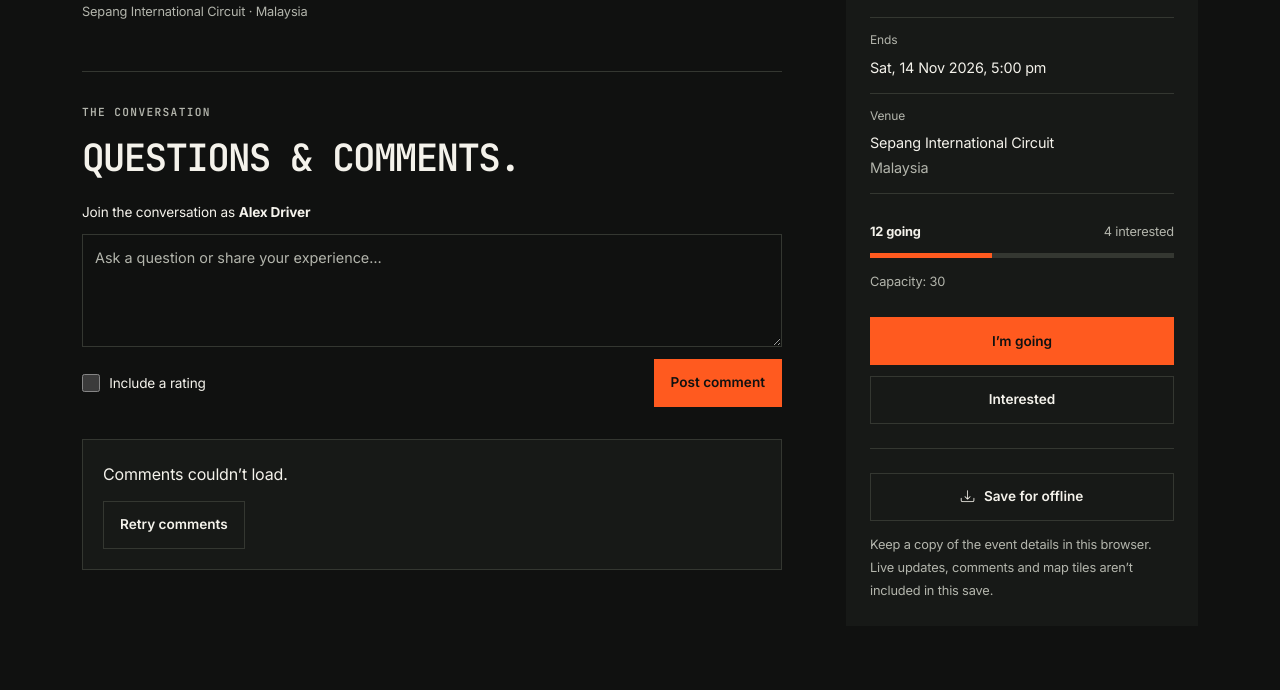
Test: EventDetailView redesign › isolates a comments failure and retries comments without hiding or refetching the event
(page scrolled)
What coordinates should you click on to do the following:
click the button "Retry comments"
I would click on:
 (174, 525)
Its box is [103,501,245,549].
(page scrolled)
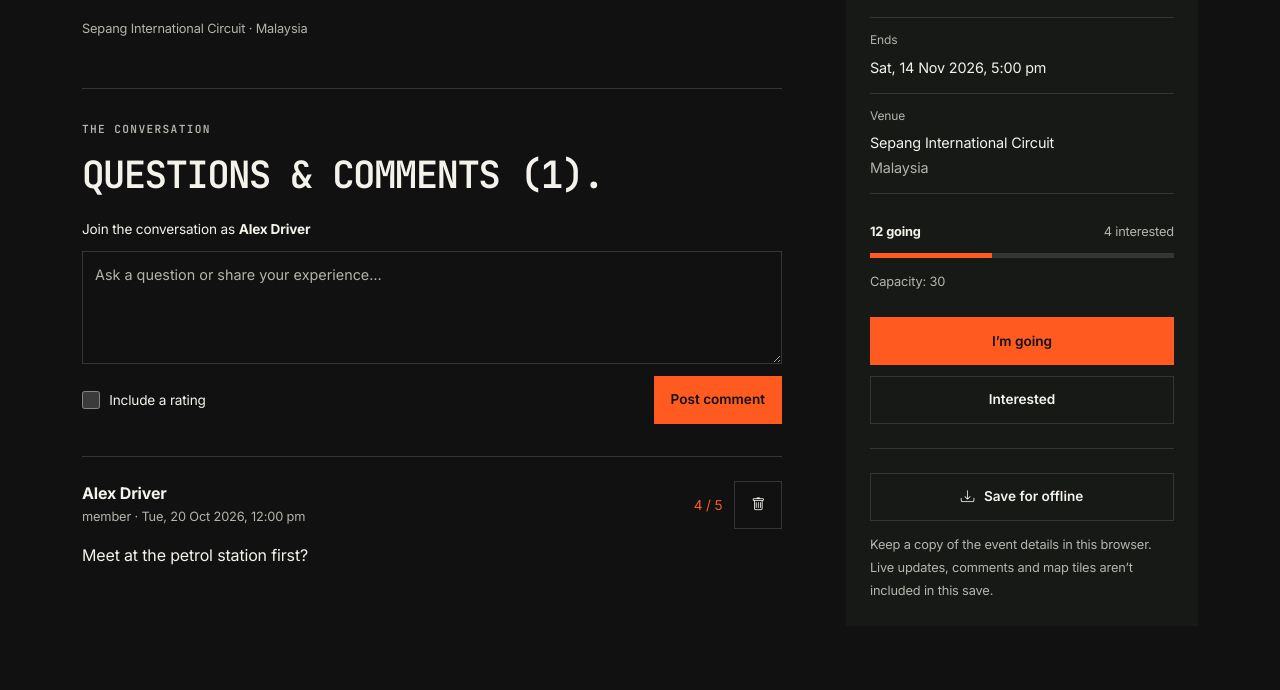
Expected: the text "Meet at the petrol station first?" is shown, [82,545,308,565]
Expected: the text "Comments couldn’t load." is gone
